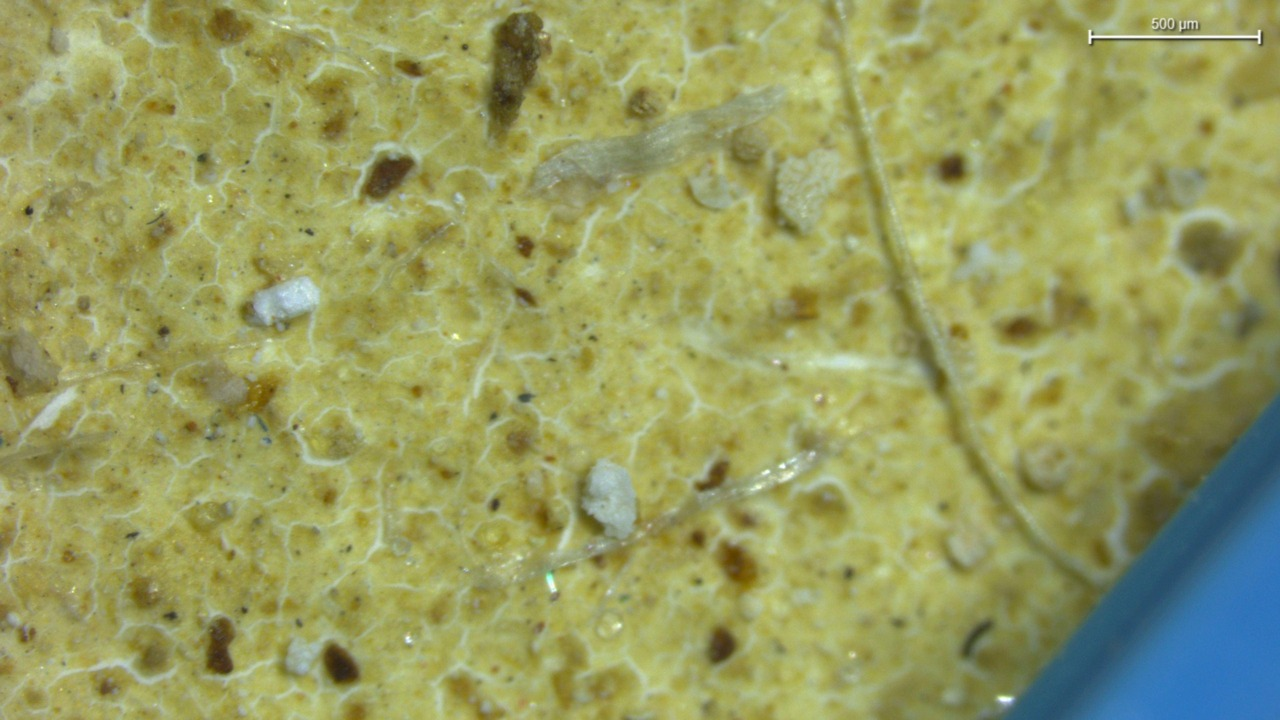microplastic_fragment: (776, 148, 840, 234), (581, 459, 637, 539), (252, 276, 320, 329), (285, 637, 322, 675)
